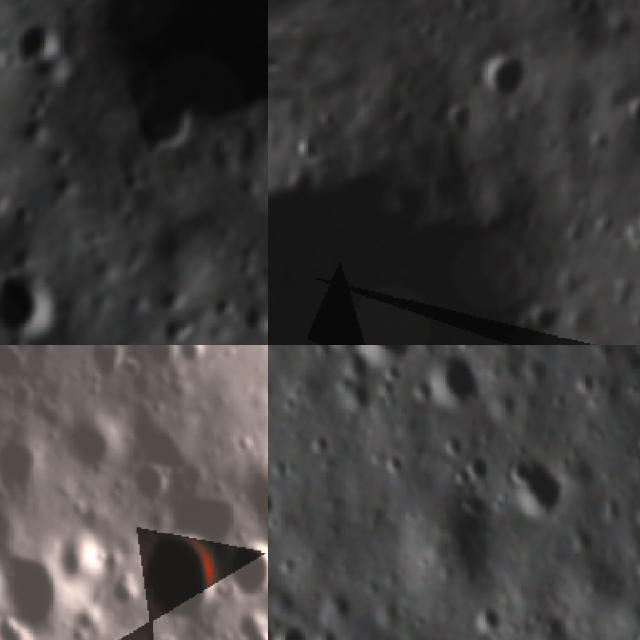crater: (268, 47, 624, 345), (0, 536, 95, 640), (127, 527, 220, 631), (468, 30, 551, 113), (497, 447, 576, 532), (424, 345, 491, 421), (58, 414, 123, 479), (0, 438, 49, 512), (49, 531, 106, 585), (521, 288, 576, 343), (226, 534, 268, 605), (124, 455, 175, 511), (440, 90, 491, 142), (287, 116, 338, 167), (0, 276, 46, 332), (353, 345, 420, 377), (282, 150, 328, 196), (581, 119, 625, 163), (18, 23, 62, 63), (615, 71, 640, 137), (606, 260, 640, 308), (468, 597, 505, 640), (169, 345, 217, 375), (458, 491, 496, 528), (621, 190, 640, 259), (136, 345, 172, 379), (391, 98, 425, 132), (318, 102, 352, 136), (559, 0, 600, 25), (273, 618, 316, 640), (233, 613, 268, 640), (450, 462, 478, 491), (307, 433, 333, 462), (381, 451, 405, 482), (574, 190, 600, 216), (444, 431, 466, 458), (628, 550, 640, 587), (268, 483, 277, 518)
